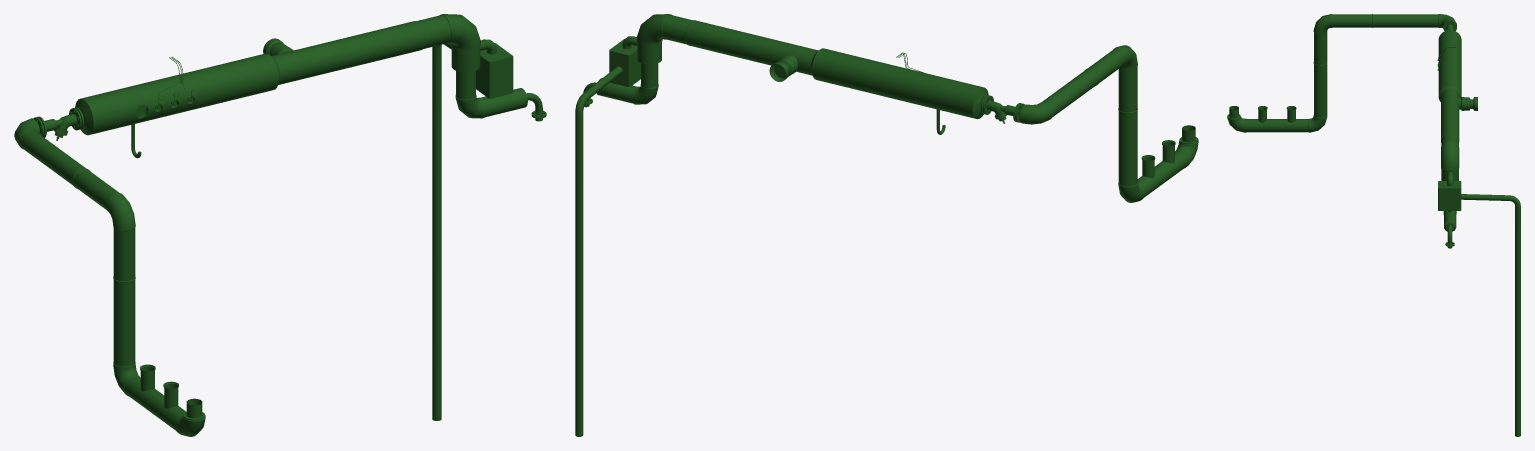
File: PumpComplex-Out-1.fbx
3 renders of one model, left to right at view 1: azimuth 30°, elevation 25°; view 2: azimuth 150°, elevation 25°; view 3: azimuth 270°, elevation 25°, orthographic. The views are drawn at different scales.
Visible parts, largest first — view 1: PumpComplex-Out-1_Main-6, PumpComplex-Out-1_Main-7, PumpComplex-Out-1_Main-3, PumpComplex-Out-1_Outflow-3, PumpComplex-Out-1_Main-8, PumpComplex-Out-1_Main-4, PumpComplex-Out-1_Outflow-1, PumpComplex-Out-1_Outflow-2, PumpComplex-Out-1_Inflow-1, PumpComplex-Out-1-Valve, PumpComplex-Out-1_Main-2, PumpComplex-Out-1_Main-1; view 2: PumpComplex-Out-1_Main-6, PumpComplex-Out-1_Outflow-3, PumpComplex-Out-1_Main-7, PumpComplex-Out-1_Main-3, PumpComplex-Out-1_Main-8, PumpComplex-Out-1_Main-4, PumpComplex-Out-1_Outflow-1, PumpComplex-Out-1_Outflow-2, PumpComplex-Out-1-Valve, PumpComplex-Out-1_Main-5; view 3: PumpComplex-Out-1_Outflow-3, PumpComplex-Out-1_Main-3, PumpComplex-Out-1_Main-4, PumpComplex-Out-1_Main-6, PumpComplex-Out-1_Main-7, PumpComplex-Out-1_Main-8, PumpComplex-Out-1_Outflow-2, PumpComplex-Out-1_Main-1, PumpComplex-Out-1_Main-2, PumpComplex-Out-1_Outflow-1, PumpComplex-Out-1_Inflow-1.
Boxes of the visible parts, x1=… form: PumpComplex-Out-1_Main-6: x1=75, y1=53, x2=280, y2=158; PumpComplex-Out-1_Main-7: x1=271, y1=21, x2=425, y2=84; PumpComplex-Out-1_Main-3: x1=105, y1=192, x2=140, y2=396; PumpComplex-Out-1_Outflow-3: x1=432, y1=43, x2=451, y2=420; PumpComplex-Out-1_Main-8: x1=416, y1=14, x2=480, y2=78; PumpComplex-Out-1_Main-4: x1=19, y1=129, x2=118, y2=209; PumpComplex-Out-1_Outflow-1: x1=455, y1=76, x2=546, y2=121; PumpComplex-Out-1_Outflow-2: x1=476, y1=39, x2=513, y2=98; PumpComplex-Out-1_Inflow-1: x1=174, y1=398, x2=205, y2=436; PumpComplex-Out-1-Valve: x1=33, y1=107, x2=84, y2=140; PumpComplex-Out-1_Main-2: x1=124, y1=376, x2=163, y2=412; PumpComplex-Out-1_Main-1: x1=149, y1=395, x2=186, y2=430; PumpComplex-Out-1_Main-6: x1=810, y1=48, x2=988, y2=134; PumpComplex-Out-1_Outflow-3: x1=575, y1=66, x2=622, y2=436; PumpComplex-Out-1_Main-7: x1=685, y1=20, x2=818, y2=75; PumpComplex-Out-1_Main-3: x1=1113, y1=45, x2=1144, y2=202; PumpComplex-Out-1_Main-8: x1=636, y1=14, x2=692, y2=70; PumpComplex-Out-1_Main-4: x1=1042, y1=48, x2=1127, y2=116; PumpComplex-Out-1_Outflow-1: x1=583, y1=68, x2=658, y2=107; PumpComplex-Out-1_Outflow-2: x1=609, y1=36, x2=640, y2=86; PumpComplex-Out-1-Valve: x1=980, y1=95, x2=1024, y2=123; PumpComplex-Out-1_Main-5: x1=1019, y1=102, x2=1053, y2=124; PumpComplex-Out-1_Outflow-3: x1=1461, y1=194, x2=1520, y2=436; PumpComplex-Out-1_Main-3: x1=1308, y1=14, x2=1332, y2=132; PumpComplex-Out-1_Main-4: x1=1332, y1=14, x2=1438, y2=27; PumpComplex-Out-1_Main-6: x1=1437, y1=30, x2=1461, y2=101; PumpComplex-Out-1_Main-7: x1=1441, y1=89, x2=1459, y2=142; PumpComplex-Out-1_Main-8: x1=1441, y1=133, x2=1459, y2=180; PumpComplex-Out-1_Outflow-2: x1=1438, y1=172, x2=1461, y2=212; PumpComplex-Out-1_Main-1: x1=1246, y1=119, x2=1277, y2=132; PumpComplex-Out-1_Main-2: x1=1277, y1=119, x2=1308, y2=132; PumpComplex-Out-1_Outflow-1: x1=1443, y1=211, x2=1456, y2=248; PumpComplex-Out-1_Inflow-1: x1=1227, y1=106, x2=1246, y2=132.
Size of the model in its own units: 660 by 560 by 508.
